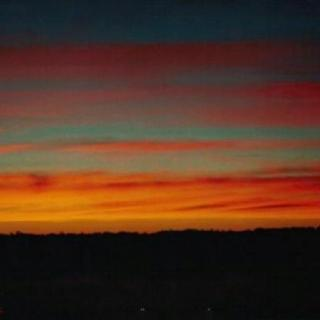Altostratus: (0, 7, 320, 219)
